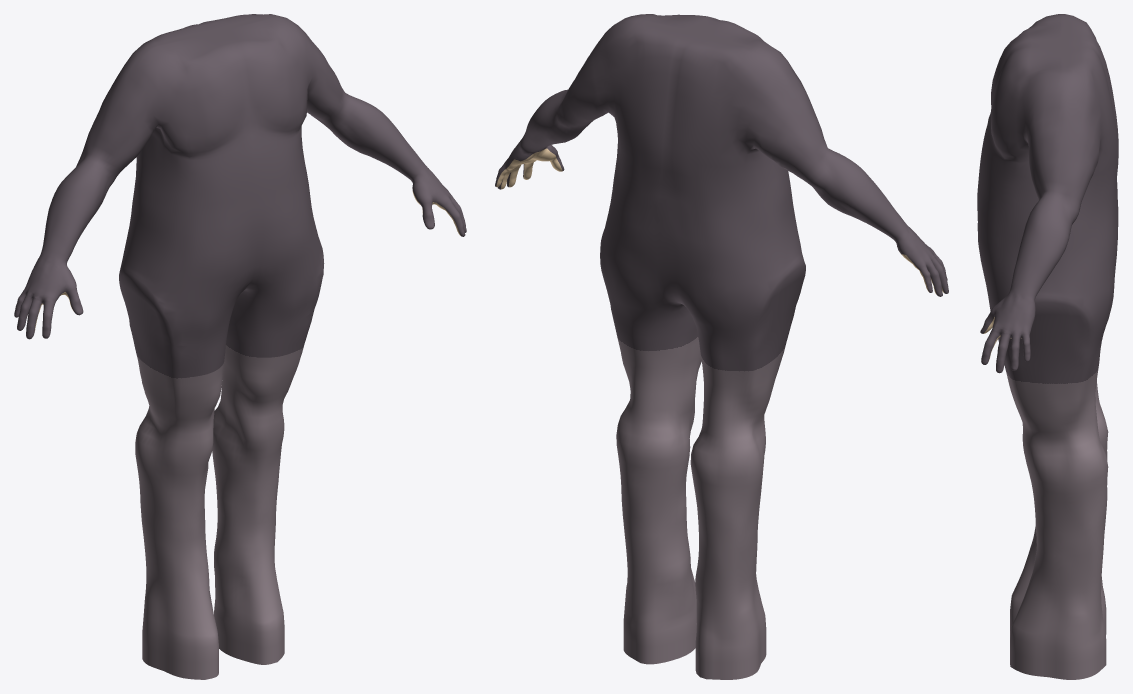
Rendered from rbt.glb.
The picture shows the model from 3 angles, left to right: view 1: azimuth 30°, elevation 25°; view 2: azimuth 150°, elevation 25°; view 3: azimuth 270°, elevation 25°; orthographic projection. The views are drawn at different scales.
Parts seen in each view (by area): view 1: Cylinder.001; view 2: Cylinder.001; view 3: Cylinder.001.
Boxes of the visible parts, left/top/right/bottom form: Cylinder.001: left=14, top=14, right=466, bottom=679; Cylinder.001: left=495, top=14, right=948, bottom=679; Cylinder.001: left=977, top=14, right=1118, bottom=679.
Bounding box in the file's own units: 4.8 × 6.42 × 1.36.
1 material, 1 textured.
